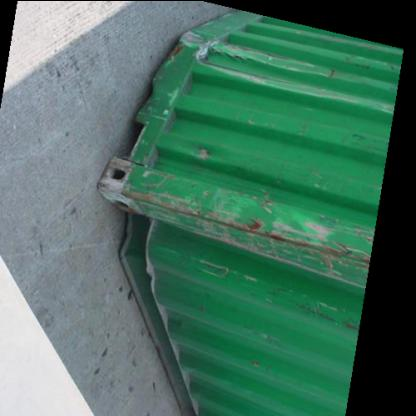Damage: (137, 166, 369, 281), (168, 27, 338, 98)
